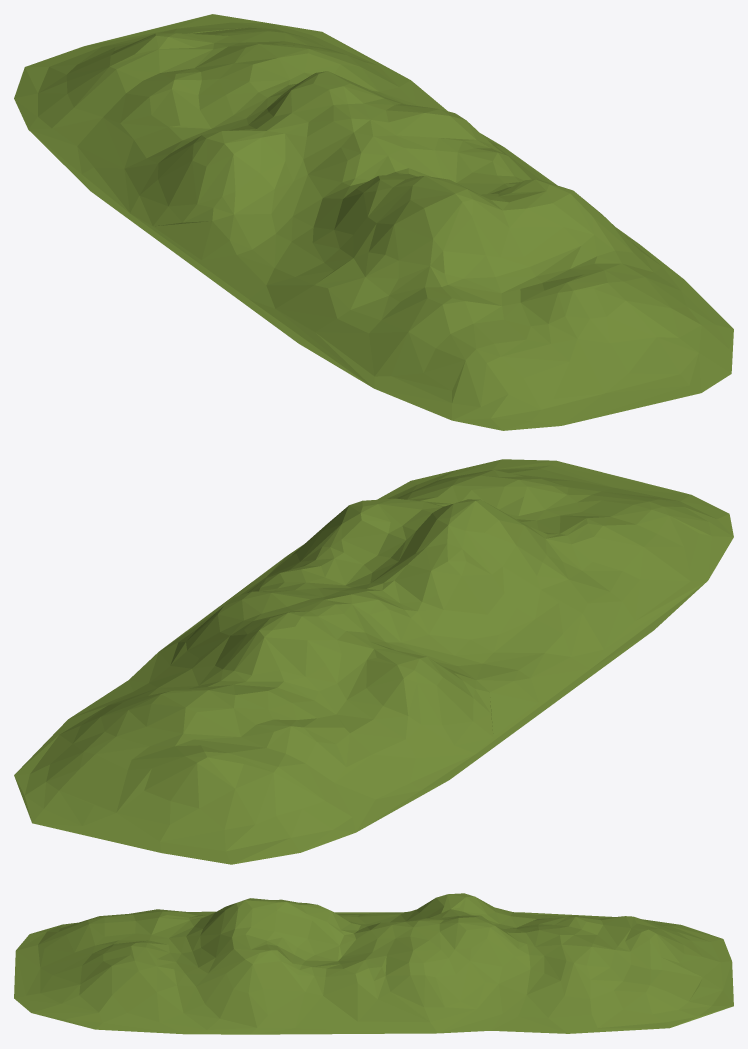
Rendered from TerrainGrass_1.fbx.
3 views of the same model, one above another, from view 1: azimuth 30°, elevation 25°; view 2: azimuth 150°, elevation 25°; view 3: azimuth 270°, elevation 25° (orthographic). The views are drawn at different scales.
Parts seen in each view (by area): view 1: TerrainGrass_1; view 2: TerrainGrass_1; view 3: TerrainGrass_1.
Part boxes in pixels (<box>): TerrainGrass_1: <box>14,14,733,430</box>; TerrainGrass_1: <box>14,459,733,864</box>; TerrainGrass_1: <box>14,893,733,1034</box>.
Bounding box in the file's own units: 2443 × 652 × 6054.
